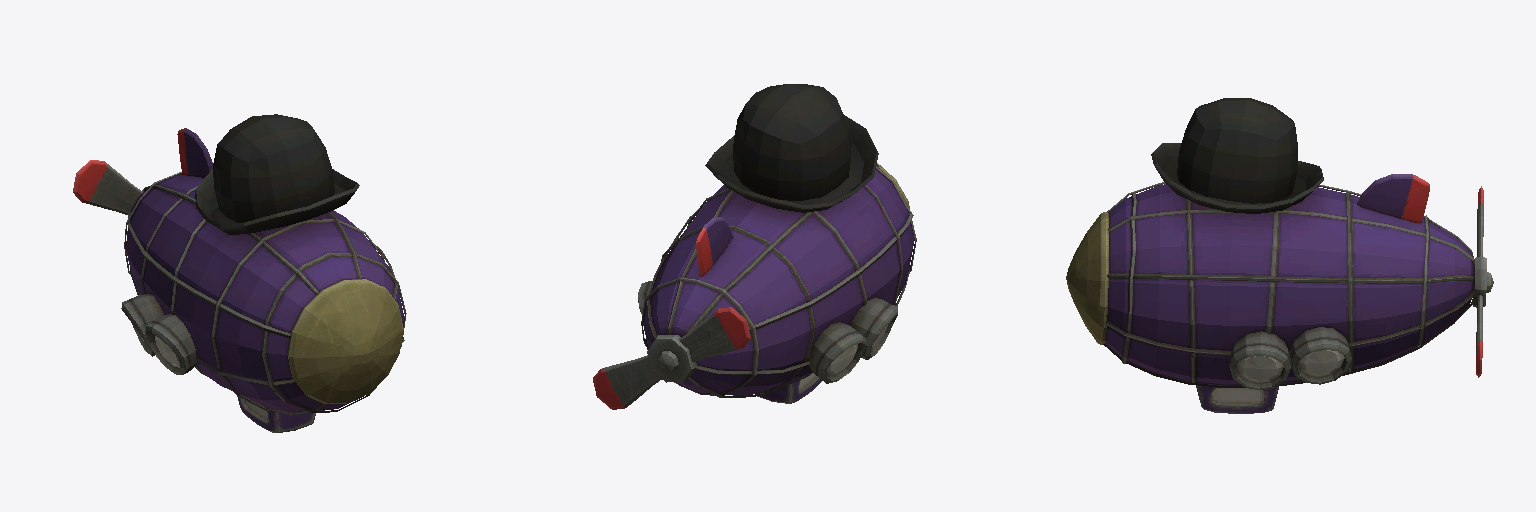
3 renders of one model, left to right at view 1: azimuth 30°, elevation 25°; view 2: azimuth 150°, elevation 25°; view 3: azimuth 270°, elevation 25°, orthographic.
Visible parts, largest first — view 1: airship; view 2: airship; view 3: airship.
Boxes of the visible parts, x1=… form: airship: x1=73, y1=114, x2=406, y2=432; airship: x1=593, y1=84, x2=916, y2=409; airship: x1=1066, y1=98, x2=1493, y2=413.
Bounding box in the file's own units: 454 × 568 × 728.
1 materials, 1 textured.